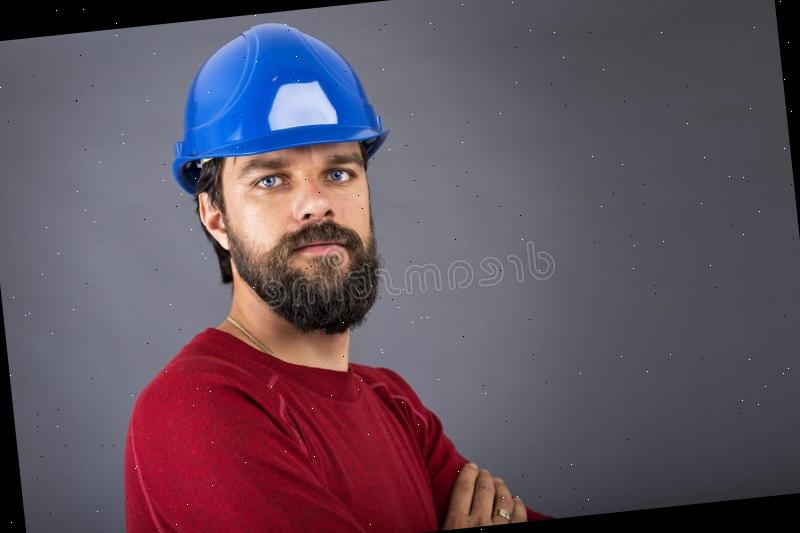helmet: (153, 8, 395, 175)
no_wear: (107, 339, 536, 533)
